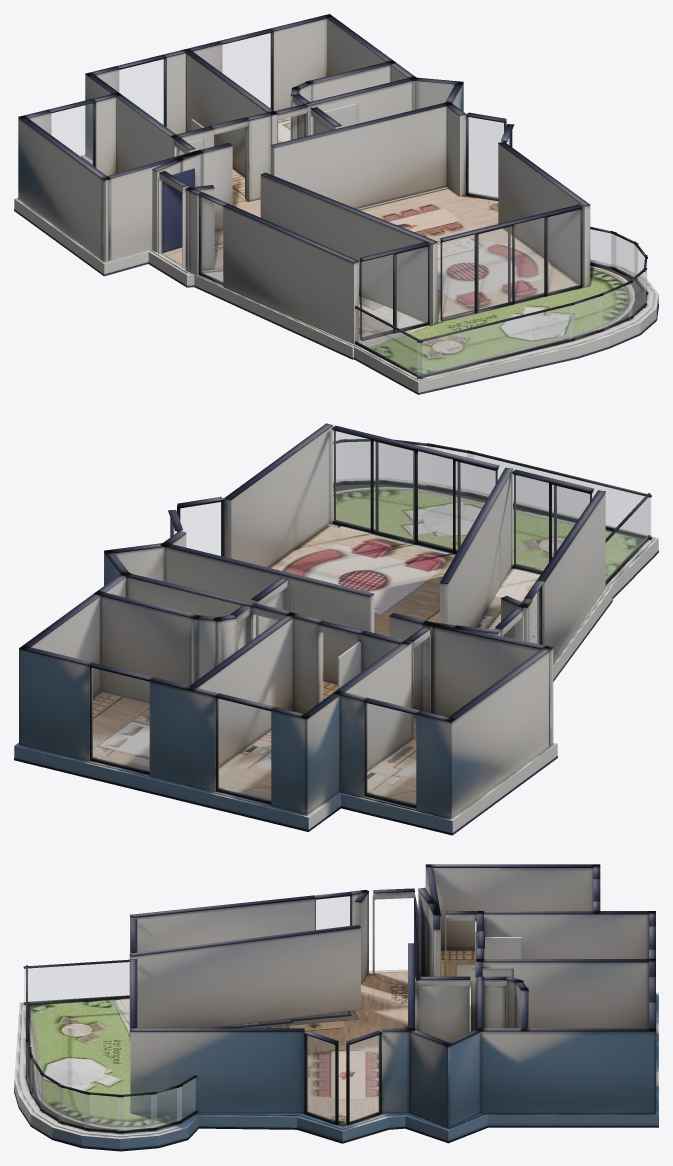
3 views of the same model, one above another, from view 1: azimuth 30°, elevation 25°; view 2: azimuth 150°, elevation 25°; view 3: azimuth 270°, elevation 25° (orthographic). The views are drawn at different scales.
Visible parts, largest first — view 1: plan, glass6_m, railg8_m, glass7_m, glass2_m, glass4_m, railg9_m, glass1_m, glass0_m, glass3_m, railg7_m, railg6_m (+3 smaller); view 2: plan, glass6_m, glass2_m, glass1_m, glass7_m, railg8_m, glass0_m, glass5_m, railg9_m, railg6_m, railg5_m, railg7_m; view 3: plan, railg9_m, glass4_m, glass5_m, railg2_m, railg3_m, glass3_m, railg1_m, railg4_m, railg5_m, railg0_m.
Part boxes in pixels (x1=…): plan: x1=14, y1=14, x2=658, y2=394; glass6_m: x1=442, y1=210, x2=580, y2=318; railg8_m: x1=417, y1=305, x2=573, y2=375; glass7_m: x1=361, y1=247, x2=427, y2=337; glass2_m: x1=222, y1=33, x2=270, y2=107; glass4_m: x1=468, y1=117, x2=503, y2=198; railg9_m: x1=355, y1=309, x2=421, y2=375; glass1_m: x1=119, y1=59, x2=164, y2=124; glass0_m: x1=51, y1=103, x2=93, y2=165; glass3_m: x1=201, y1=197, x2=222, y2=282; railg7_m: x1=568, y1=296, x2=602, y2=339; railg6_m: x1=598, y1=283, x2=632, y2=329; plan: x1=14, y1=423, x2=658, y2=835; glass6_m: x1=333, y1=431, x2=495, y2=550; glass2_m: x1=92, y1=668, x2=149, y2=771; glass1_m: x1=218, y1=699, x2=270, y2=801; glass7_m: x1=513, y1=475, x2=592, y2=571; railg8_m: x1=467, y1=453, x2=650, y2=536; glass0_m: x1=366, y1=703, x2=415, y2=804; glass5_m: x1=180, y1=502, x2=221, y2=555; railg9_m: x1=606, y1=498, x2=648, y2=580; railg6_m: x1=384, y1=444, x2=433, y2=484; railg5_m: x1=344, y1=442, x2=380, y2=480; railg7_m: x1=427, y1=446, x2=473, y2=491; plan: x1=14, y1=864, x2=658, y2=1151; railg9_m: x1=24, y1=962, x2=129, y2=1001; glass4_m: x1=350, y1=1035, x2=379, y2=1121; glass5_m: x1=307, y1=1035, x2=334, y2=1121; railg2_m: x1=117, y1=1094, x2=156, y2=1130; railg3_m: x1=84, y1=1094, x2=123, y2=1130; glass3_m: x1=316, y1=896, x2=350, y2=929; railg1_m: x1=151, y1=1087, x2=181, y2=1128; railg4_m: x1=59, y1=1087, x2=89, y2=1128; railg5_m: x1=41, y1=1075, x2=63, y2=1121; railg0_m: x1=177, y1=1078, x2=195, y2=1121.
Size of the model in its own units: 11.42 by 2.62 by 16.11.
Materials: 2 (1 with a texture image).
